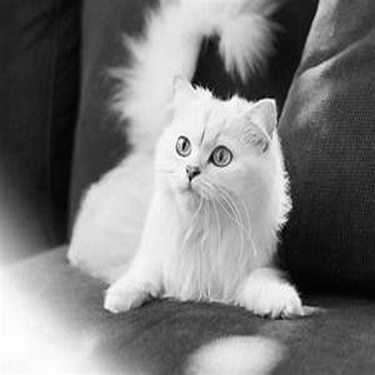cat: (70, 10, 311, 321)
